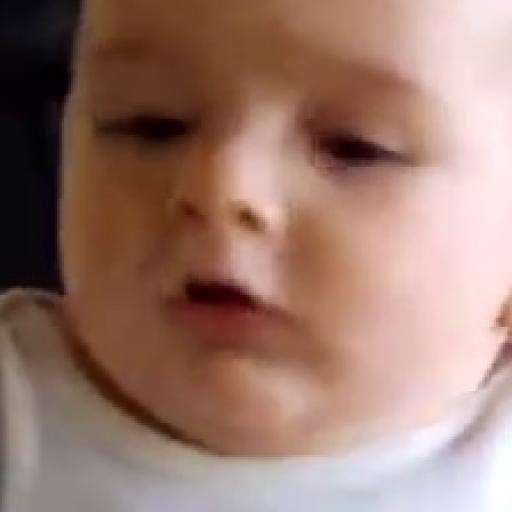Autism: (81, 0, 511, 487)
